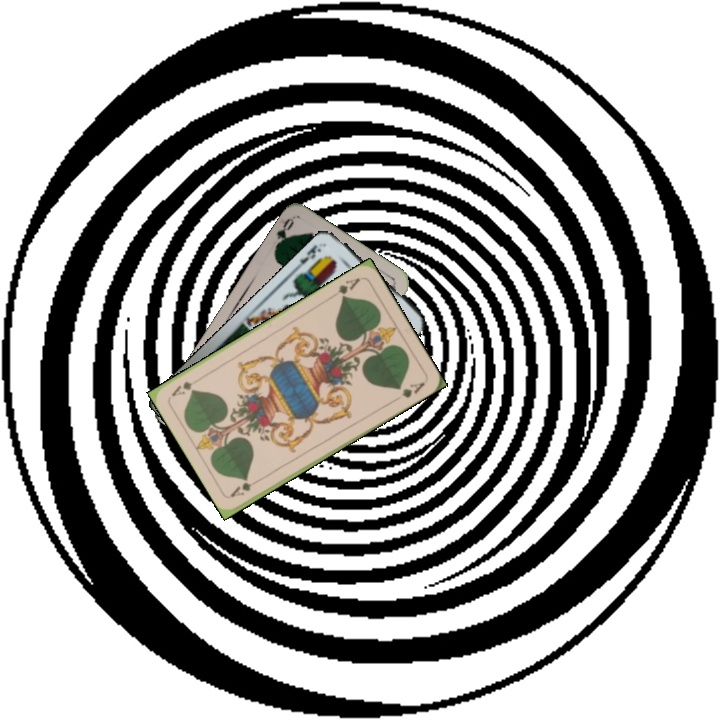EK: (296, 239, 329, 268)
GA: (227, 474, 264, 500), (334, 273, 363, 301)
GO: (271, 214, 296, 253)
